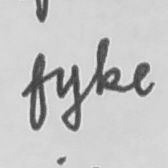e: (131, 58, 157, 99)
f: (26, 51, 51, 134)
k: (91, 34, 125, 99)
y: (54, 62, 83, 135)
